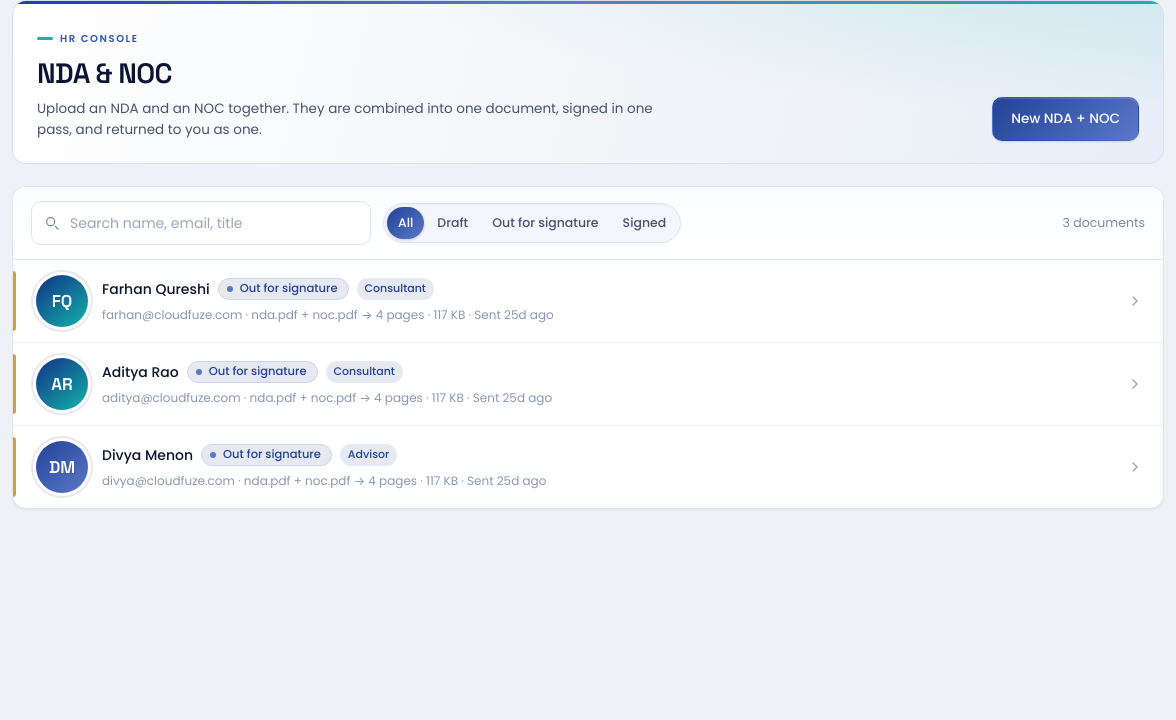
Test: NocPage search › finds a recipient by email as well as by name
The width and height of the screenshot is (1176, 720).
Expected: the text "Divya Menon" is shown, 102,444 -> 193,466
Type "divya@cloudfuze" into the field named "Search NDA and NOC documents" at (201, 223), box 31,201 -> 371,245
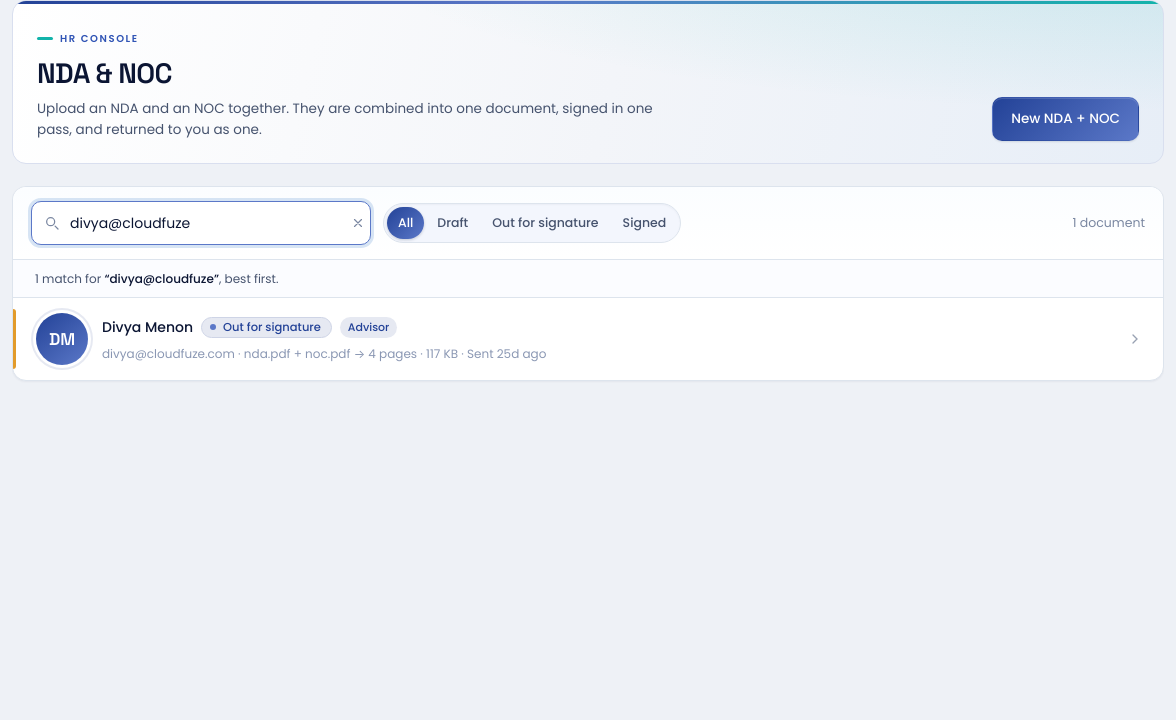
Expected: the text "Divya Menon" is shown, 102,316 -> 193,338
Expected: the button "Farhan Qureshi" is gone
